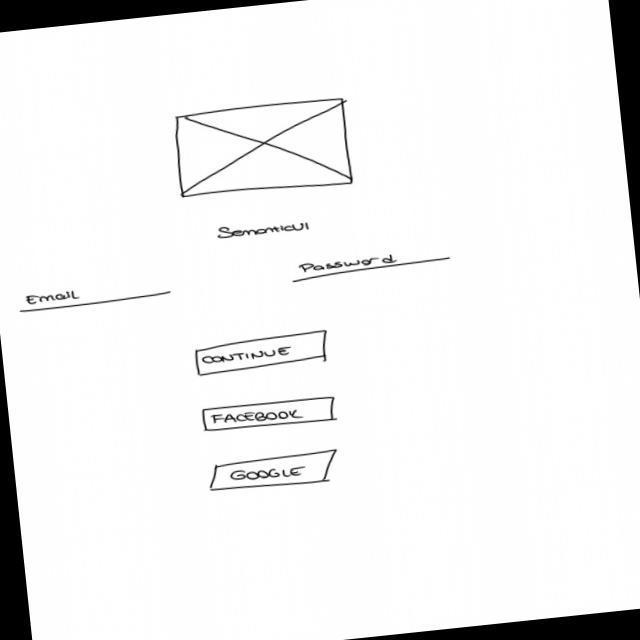button: (193, 328, 333, 379), (205, 447, 344, 496), (199, 394, 338, 436)
image: (171, 95, 357, 205)
input: (289, 245, 456, 286), (17, 277, 174, 315)
label: (216, 218, 314, 243)
